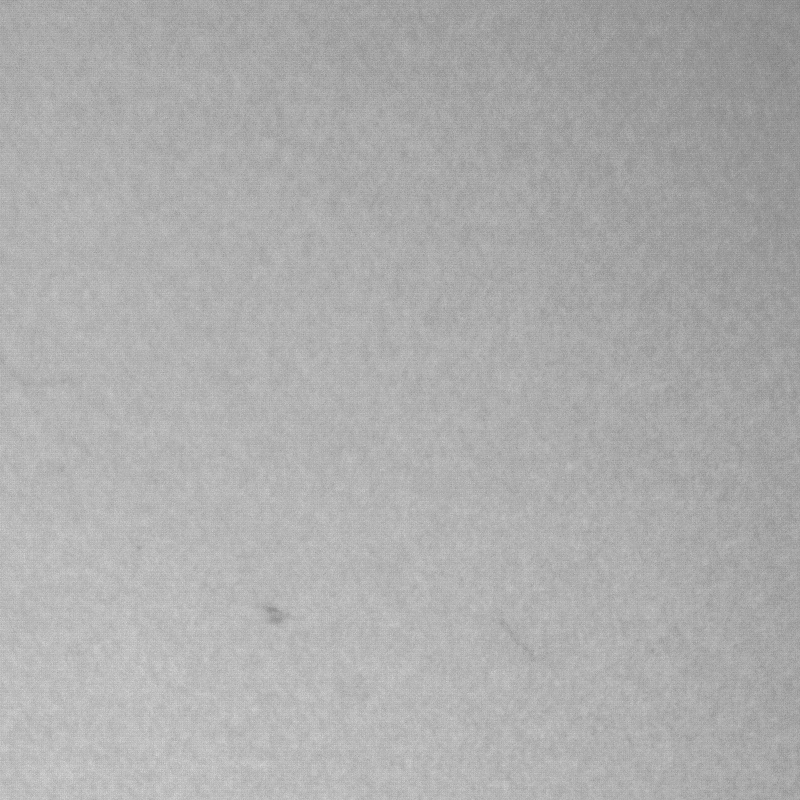defect: (497, 622, 542, 664), (264, 603, 293, 628)
